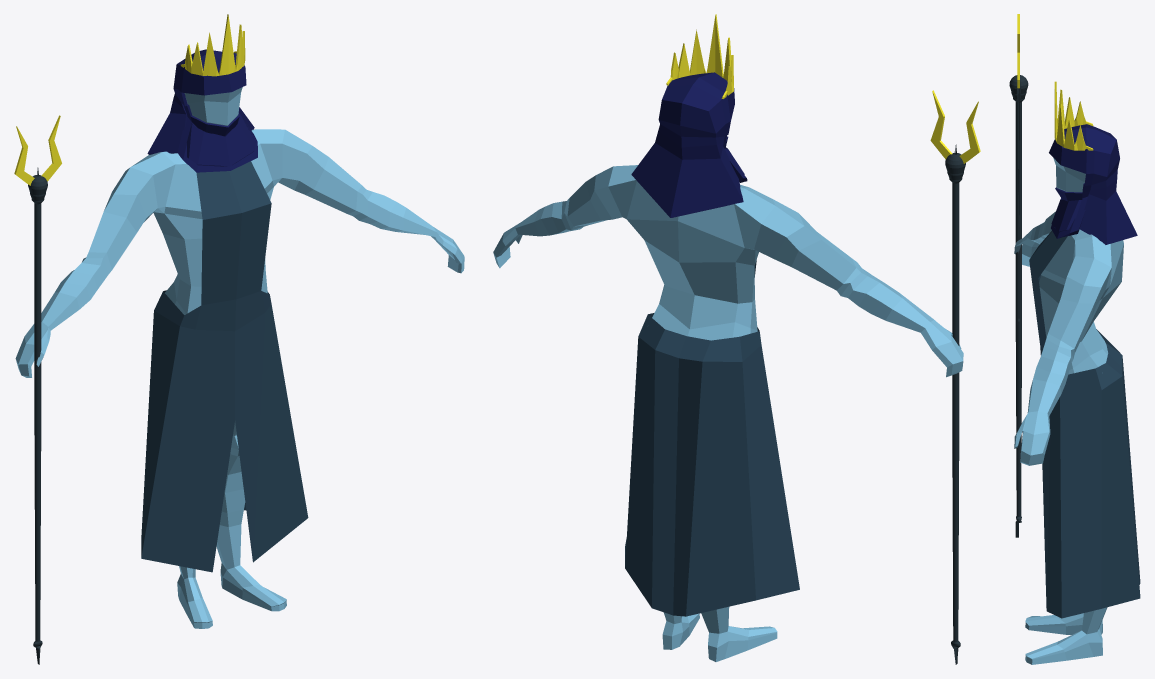
The model's file is sideChick.fbx.
3 renders of one model, left to right at view 1: azimuth 30°, elevation 25°; view 2: azimuth 150°, elevation 25°; view 3: azimuth 270°, elevation 25°, orthographic. The views are drawn at different scales.
Parts seen in each view (by area): view 1: cloth, body, Cylinder, beard, body.001, Cylinder.001, Plane; view 2: cloth, body, body.001, Cylinder, Cylinder.001, Plane; view 3: cloth, body, body.001, Cylinder, beard, Cylinder.001, Plane.
Part boxes in pixels (x1,y1,x2,y2): cloth: [141, 161, 308, 572]; body: [15, 87, 464, 628]; Cylinder: [28, 167, 47, 664]; beard: [177, 104, 257, 172]; body.001: [147, 49, 254, 154]; Cylinder.001: [181, 14, 245, 76]; Plane: [14, 115, 61, 185]; cloth: [625, 260, 799, 616]; body: [493, 165, 963, 661]; body.001: [631, 72, 743, 217]; Cylinder: [945, 144, 965, 664]; Cylinder.001: [666, 14, 733, 98]; Plane: [930, 90, 980, 163]; cloth: [1029, 231, 1140, 618]; body: [1014, 158, 1123, 664]; body.001: [1049, 124, 1137, 244]; Cylinder: [1009, 75, 1028, 537]; beard: [1051, 183, 1090, 238]; Cylinder.001: [1054, 81, 1093, 150]; Plane: [1017, 14, 1019, 88].
Size of the model in its own units: 399 by 497 by 105.
